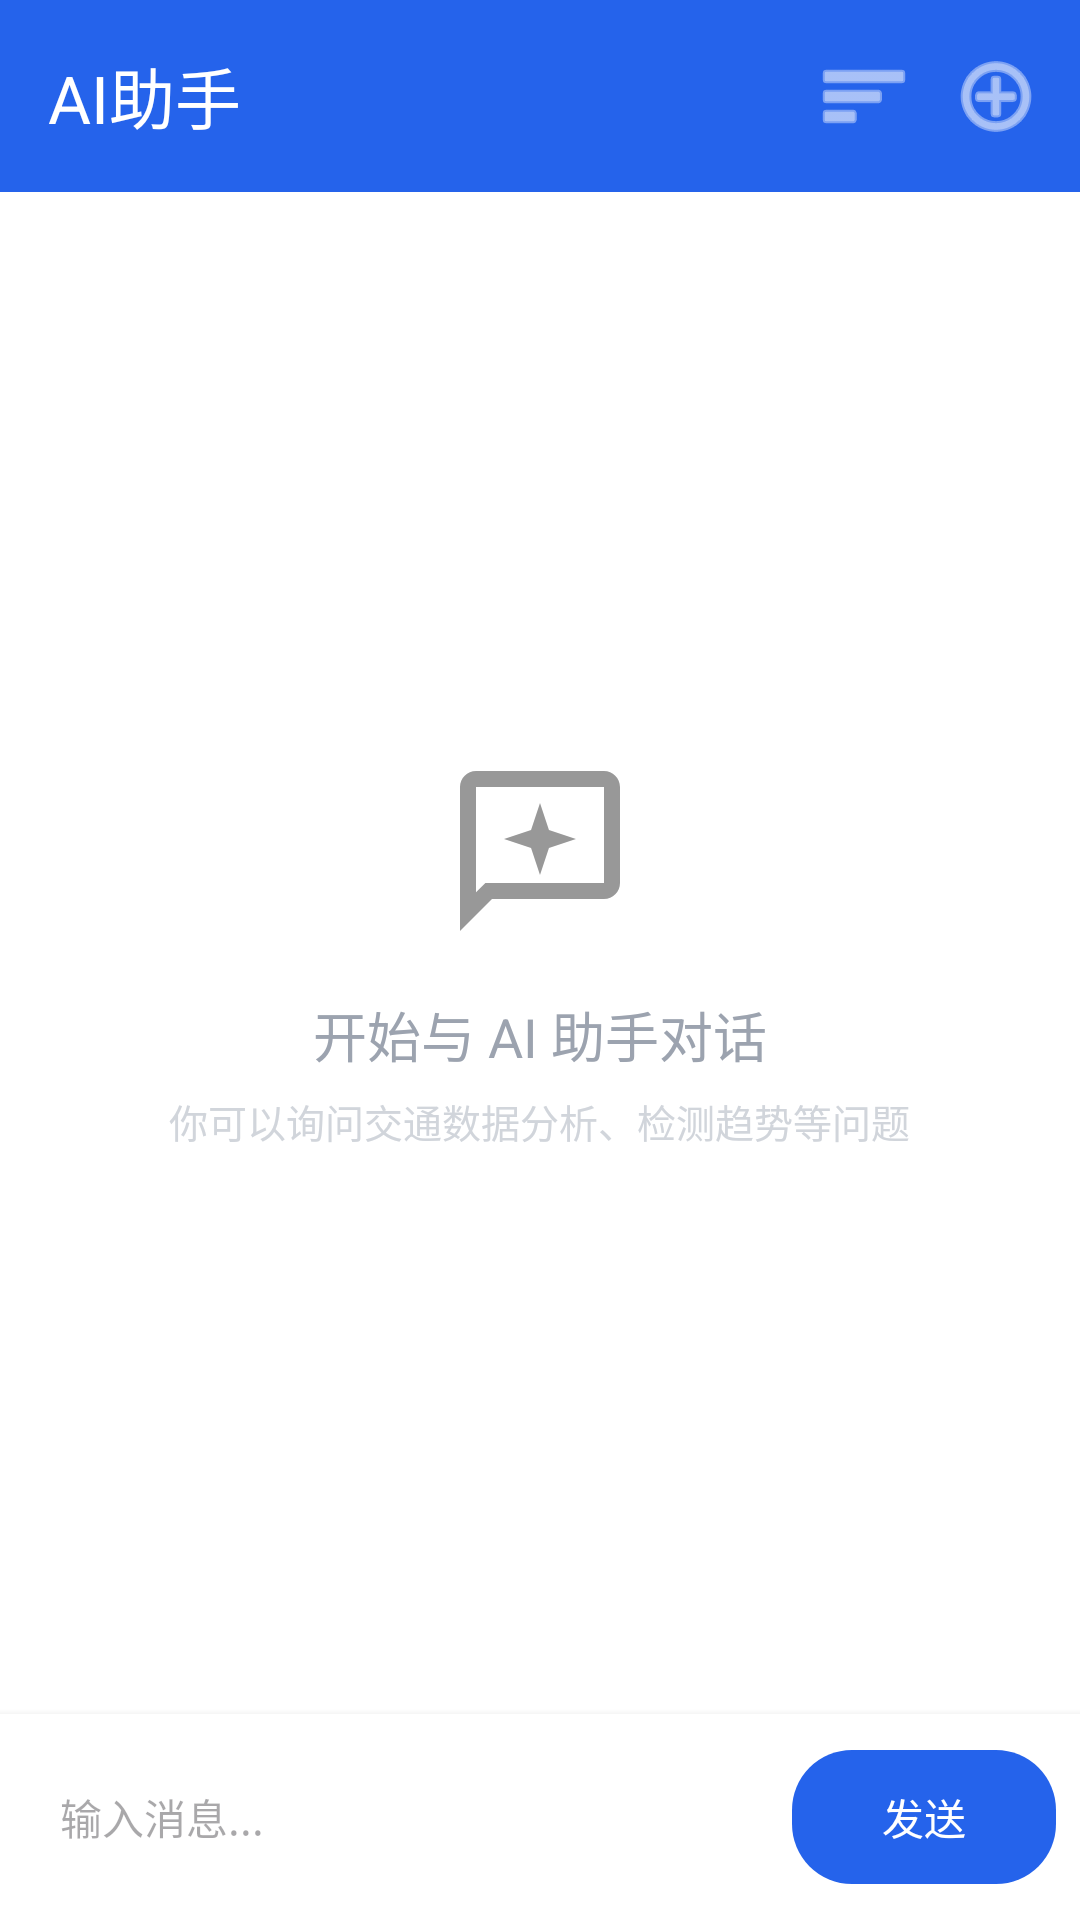

Icons on this 1080×1920 Android screen, each with its box as bbox=(x1, y1, x2, y2):
会话列表: bbox=(823, 70, 905, 123)
新建会话: bbox=(960, 61, 1032, 132)
